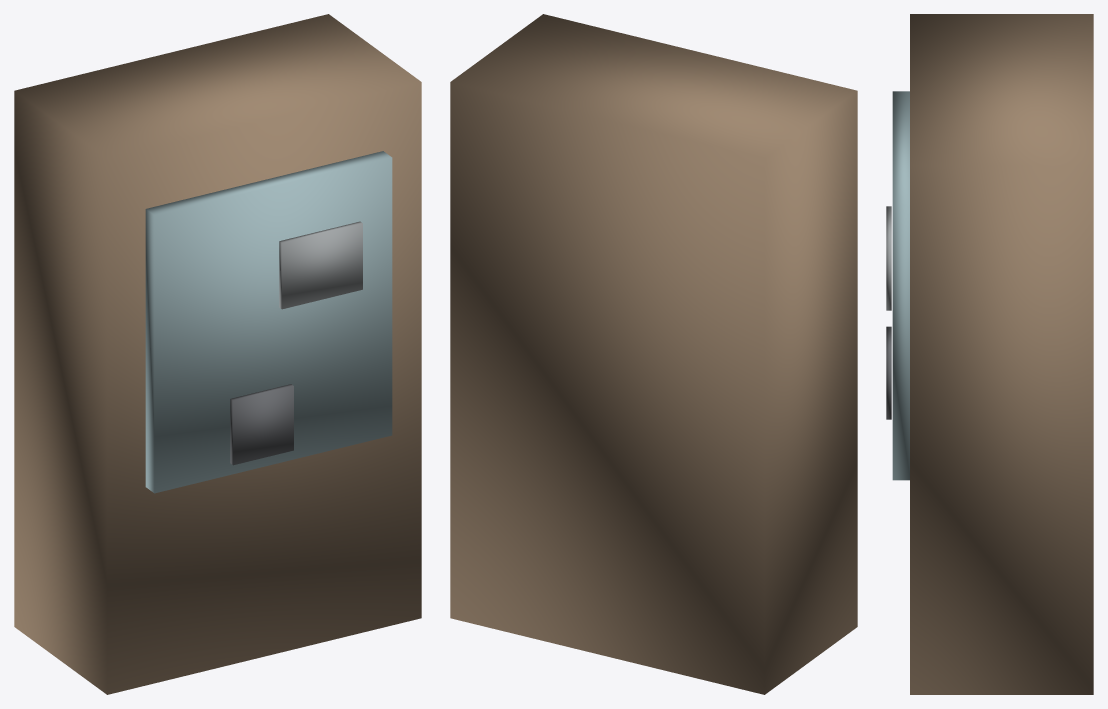
File: shrine_cabinet__weathered.glb
The picture shows the model from 3 angles, left to right: view 1: azimuth 30°, elevation 25°; view 2: azimuth 150°, elevation 25°; view 3: azimuth 270°, elevation 25°; orthographic projection.
Visible parts, largest first — view 1: world; view 2: world; view 3: world.
Boxes of the visible parts, x1,y1,x2,y2 form: world: [14, 14, 421, 694]; world: [450, 14, 857, 694]; world: [886, 14, 1093, 694].
Size of the model in its own units: 0.82 by 1.34 by 0.474.
